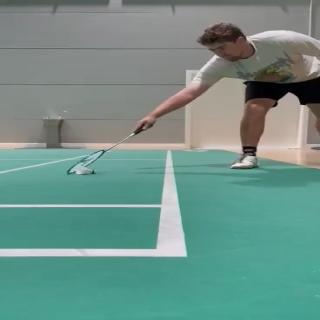Shuttle: (76, 166, 97, 175)
